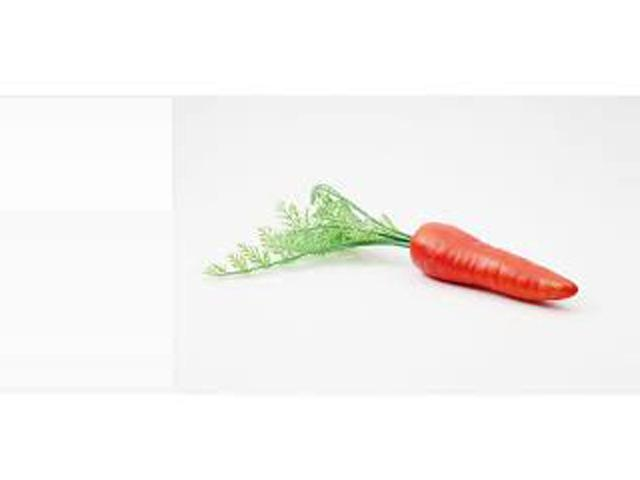carrot: (406, 224, 594, 322)
